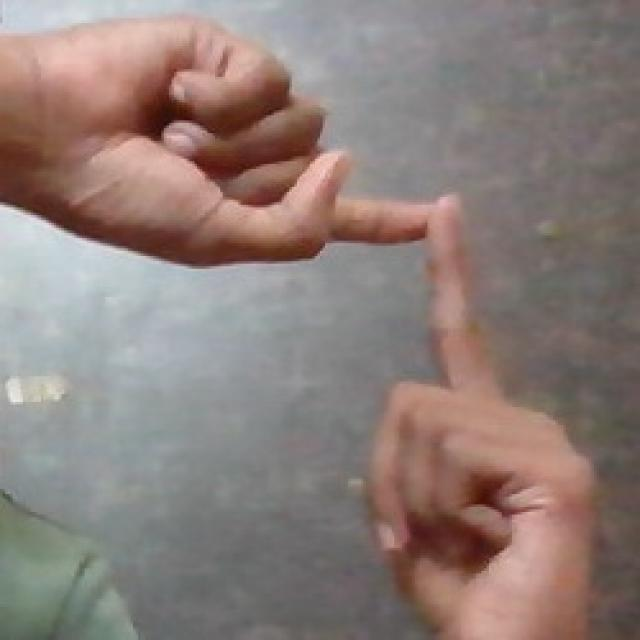Alphabet-E: (1, 18, 429, 266)
